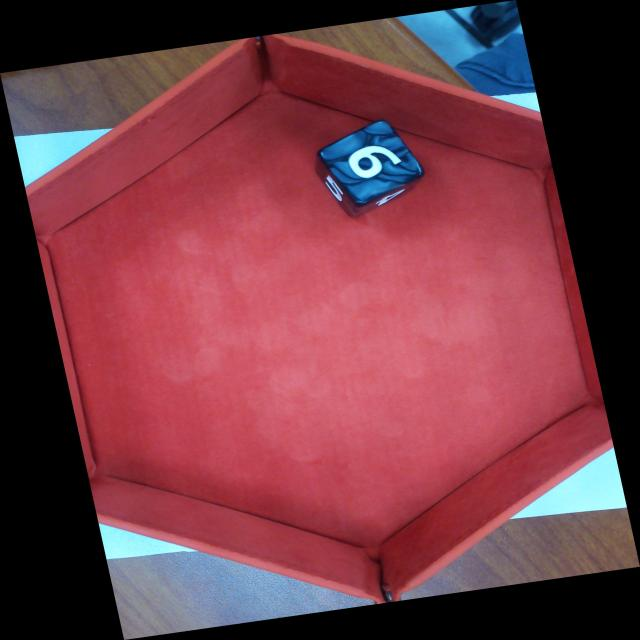dice: (319, 121, 425, 203)
